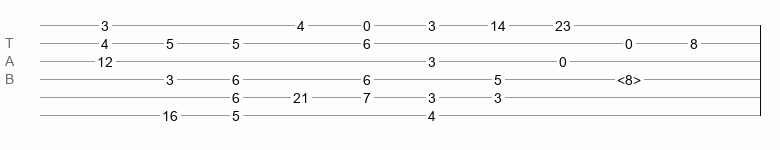0: (363, 18, 371, 28), (559, 54, 567, 64), (625, 36, 633, 46)
12: (97, 54, 113, 64)
14: (490, 18, 506, 28)
16: (162, 108, 178, 118)
21: (293, 90, 309, 100)
23: (555, 18, 571, 28)
3: (101, 18, 109, 28), (166, 72, 174, 82), (428, 90, 436, 100), (428, 54, 436, 64), (428, 18, 436, 28), (494, 90, 502, 100)
4: (101, 36, 109, 46), (297, 18, 305, 28), (428, 108, 436, 118)
5: (166, 36, 174, 46), (232, 108, 240, 118), (232, 36, 240, 46), (494, 72, 502, 82)
6: (232, 72, 240, 82), (232, 90, 240, 100), (363, 72, 371, 82), (363, 36, 371, 46)
7: (363, 90, 371, 100)
8: (690, 36, 698, 46)
harmonic: (617, 72, 641, 82)
